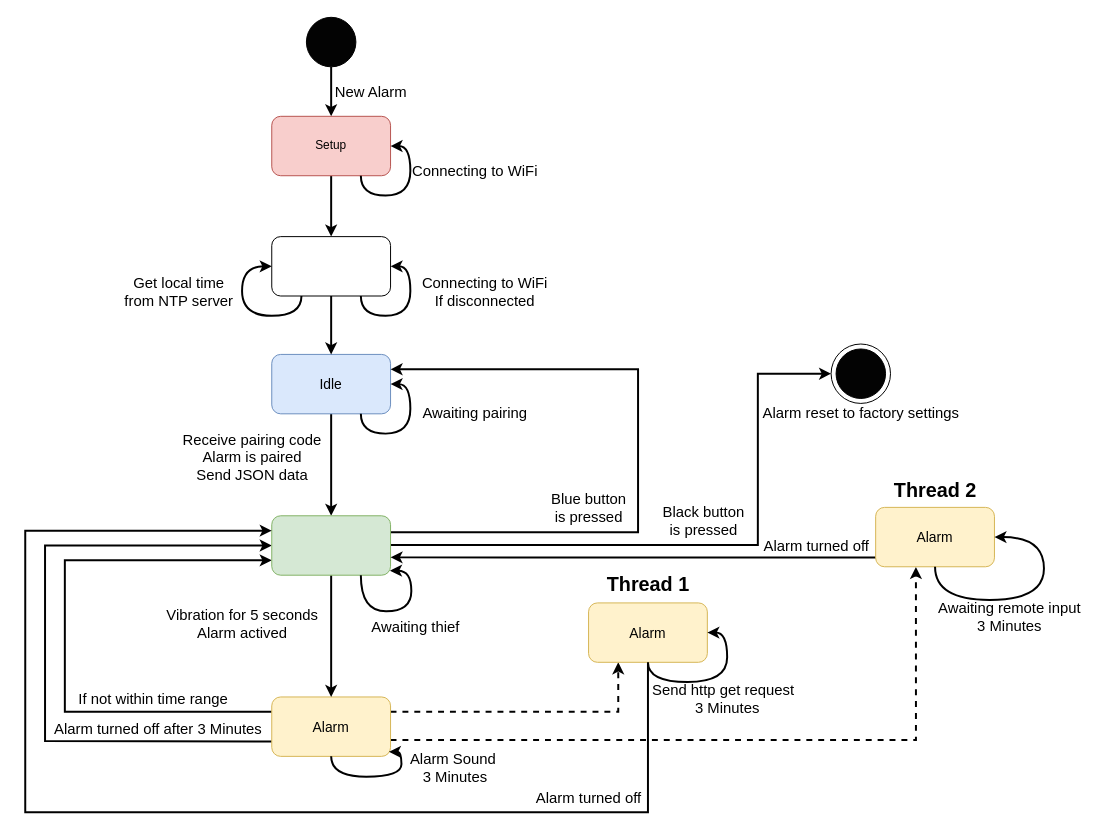
Image size: 1110x839. Some labels were removed from this diagram. Each missing label, with the centre of its shape:
"Loop" goes at (331,266).
"Pairing" goes at (331,545).
